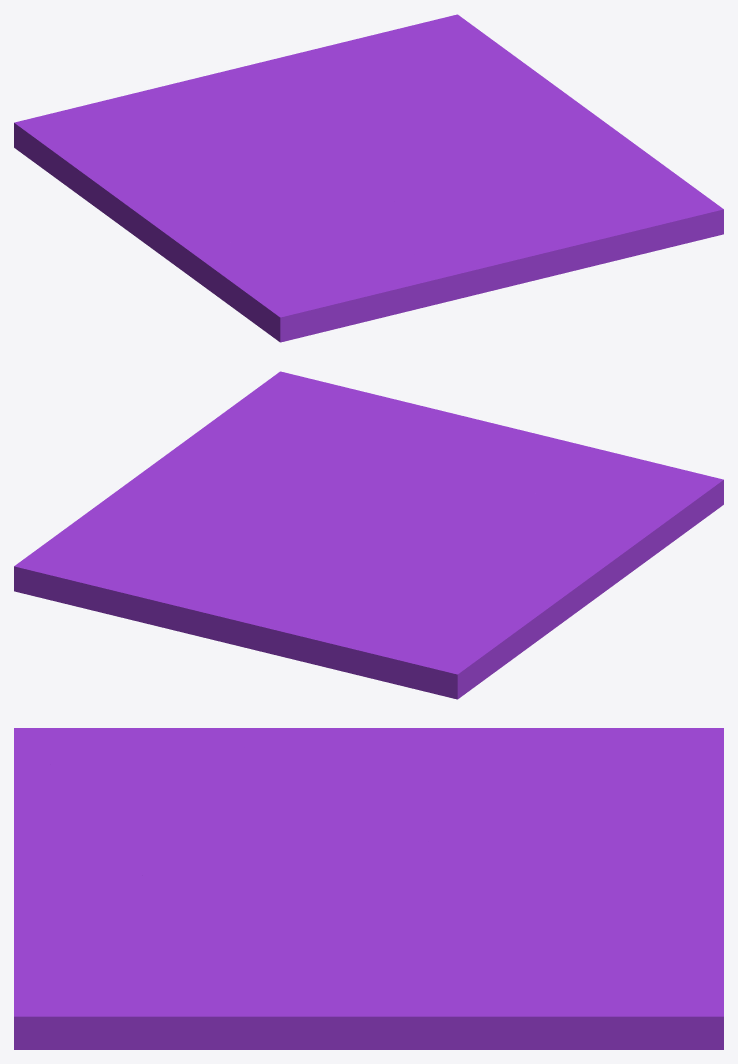
File: Window_182_chunks.fbx
3 renders of one model, top to bottom at view 1: azimuth 30°, elevation 25°; view 2: azimuth 150°, elevation 25°; view 3: azimuth 270°, elevation 25°, orthographic. The views are drawn at different scales.
Visible parts, largest first — view 1: Window_182_6, Window_182_5, Window_182_7, Window_182_46, Window_182_21, Window_182_29, Window_182_23, Window_182_17, Window_182_11, Window_182_40, Window_182_32, Window_182_12 (+29 smaller); view 2: Window_182_6, Window_182_5, Window_182_7, Window_182_17, Window_182_9, Window_182_20, Window_182_21, Window_182_29, Window_182_23, Window_182_12, Window_182_11, Window_182_3 (+28 smaller); view 3: Window_182_21, Window_182_23, Window_182_30, Window_182_7, Window_182_6, Window_182_29, Window_182_5, Window_182_17, Window_182_11, Window_182_12, Window_182_3, Window_182_2 (+29 smaller).
Part boxes in pixels (x1=…): Window_182_6: x1=120, y1=172, x2=270, y2=291; Window_182_5: x1=208, y1=239, x2=344, y2=342; Window_182_7: x1=247, y1=153, x2=381, y2=244; Window_182_46: x1=532, y1=209, x2=719, y2=276; Window_182_21: x1=434, y1=92, x2=629, y2=148; Window_182_29: x1=446, y1=144, x2=599, y2=207; Window_182_23: x1=407, y1=14, x2=563, y2=94; Window_182_17: x1=193, y1=53, x2=340, y2=118; Window_182_11: x1=42, y1=124, x2=195, y2=187; Window_182_40: x1=385, y1=250, x2=525, y2=303; Window_182_32: x1=517, y1=180, x2=723, y2=232; Window_182_12: x1=125, y1=79, x2=236, y2=131; Window_182_6: x1=444, y1=533, x2=654, y2=596; Window_182_5: x1=542, y1=471, x2=723, y2=554; Window_182_7: x1=361, y1=492, x2=552, y2=564; Window_182_17: x1=173, y1=569, x2=322, y2=651; Window_182_9: x1=327, y1=626, x2=497, y2=699; Window_182_20: x1=58, y1=556, x2=218, y2=634; Window_182_21: x1=121, y1=440, x2=244, y2=521; Window_182_29: x1=211, y1=431, x2=395, y2=497; Window_182_23: x1=14, y1=488, x2=168, y2=591; Window_182_12: x1=262, y1=594, x2=397, y2=667; Window_182_11: x1=396, y1=593, x2=524, y2=670; Window_182_3: x1=229, y1=521, x2=362, y2=570; Window_182_21: x1=263, y1=934, x2=493, y2=1049; Window_182_23: x1=440, y1=971, x2=723, y2=1036; Window_182_30: x1=14, y1=975, x2=275, y2=1049; Window_182_7: x1=170, y1=791, x2=431, y2=877; Window_182_6: x1=221, y1=728, x2=440, y2=808; Window_182_29: x1=157, y1=897, x2=333, y2=997; Window_182_5: x1=14, y1=728, x2=213, y2=808; Window_182_17: x1=564, y1=844, x2=723, y2=912; Window_182_11: x1=519, y1=728, x2=649, y2=800; Window_182_12: x1=566, y1=789, x2=723, y2=850; Window_182_3: x1=388, y1=857, x2=521, y2=933; Window_182_2: x1=293, y1=871, x2=446, y2=973.
Size of the model in its own units: 1129 by 60.81 by 1174.
